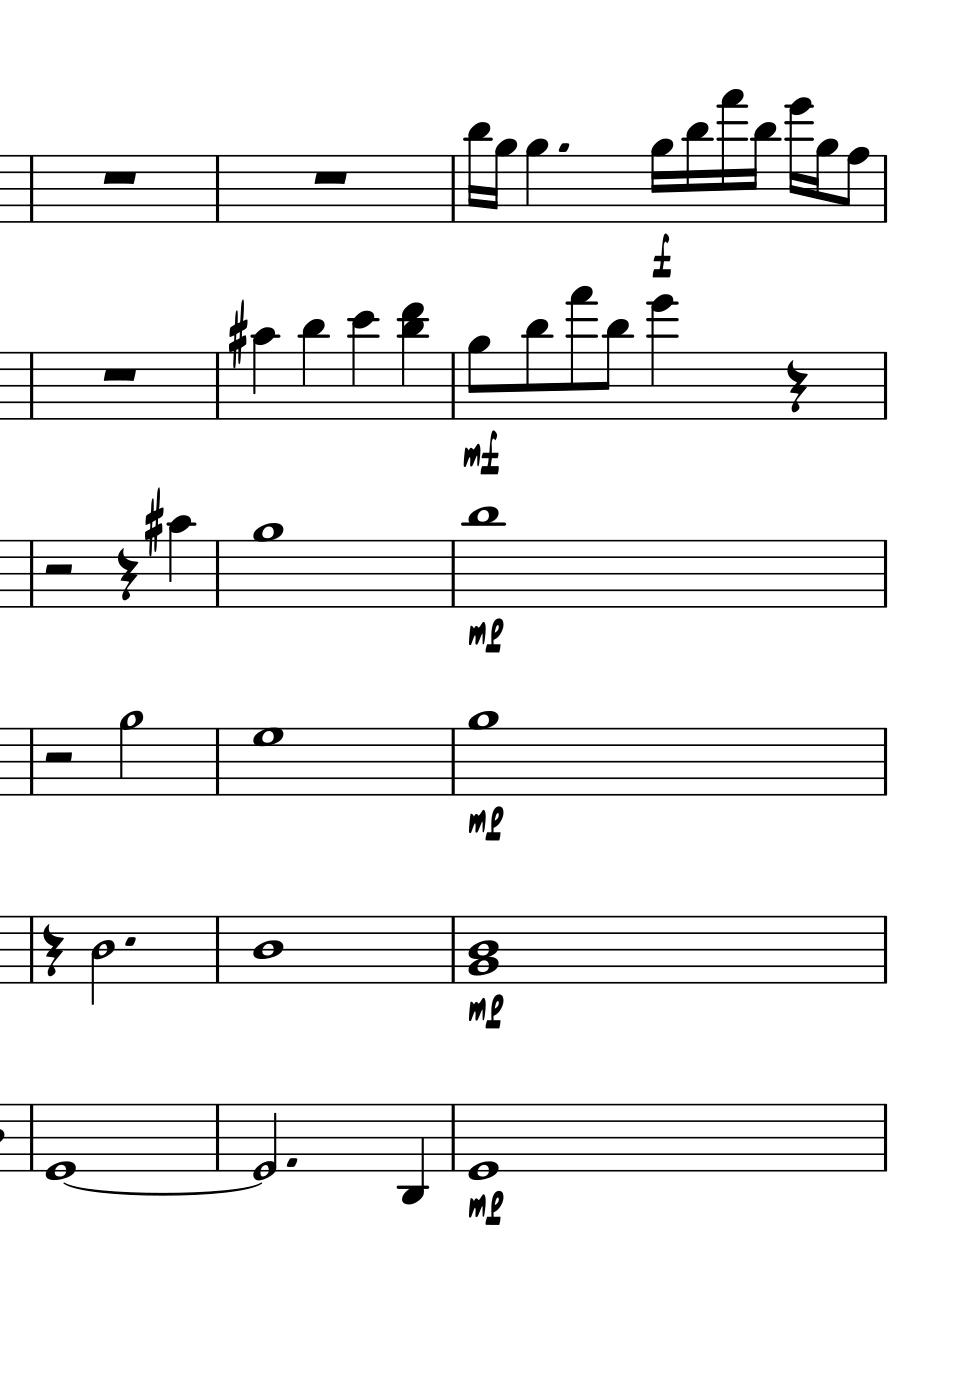16_11: (747, 120, 778, 225), (682, 120, 711, 224), (463, 120, 489, 225)
16_14: (786, 98, 812, 221)
16_15: (716, 90, 745, 220)
16_9: (487, 137, 518, 225), (647, 137, 673, 224), (811, 137, 837, 225)
1_0: (43, 1101, 76, 1183), (466, 1101, 498, 1182)
1_11: (463, 504, 503, 610)
1_4: (250, 913, 283, 987)
1_7: (251, 725, 285, 799)
1_9: (250, 521, 285, 612), (467, 708, 500, 797)
2_0: (250, 1101, 279, 1182)
2_4: (89, 913, 116, 1006)
2_9: (117, 709, 144, 796)
4_-3: (398, 1099, 427, 1207)
4_10: (248, 326, 279, 423), (165, 512, 193, 612)
4_11: (300, 316, 328, 422)
4_12: (348, 310, 379, 423)
4_14: (646, 292, 675, 423)
4_9: (523, 136, 549, 224)
8_11: (599, 317, 630, 423), (522, 317, 552, 422)
8_15: (567, 286, 597, 422)
8_8: (839, 145, 870, 225)
8_9: (465, 334, 492, 421)
Rests1: (308, 166, 352, 188), (98, 168, 141, 188), (98, 365, 141, 385)
Rests2: (41, 748, 78, 768), (41, 560, 77, 580)
Rests4: (784, 358, 809, 416), (116, 547, 139, 603), (41, 924, 64, 979)
Sharp: (142, 485, 165, 557), (226, 298, 248, 369)
Single_barline: (208, 729, 227, 795), (443, 541, 462, 607), (443, 353, 462, 418), (22, 729, 40, 795), (208, 541, 226, 606), (22, 915, 39, 983), (876, 540, 893, 607), (876, 729, 893, 795), (876, 916, 893, 983), (876, 1104, 893, 1171), (444, 729, 461, 794), (209, 917, 226, 982), (22, 1105, 39, 1170), (877, 155, 893, 222), (877, 352, 893, 419), (23, 540, 39, 607), (209, 156, 225, 222), (445, 156, 461, 222), (209, 353, 225, 419), (23, 353, 39, 418), (23, 155, 38, 222), (445, 1105, 460, 1171), (445, 917, 460, 982), (209, 1106, 224, 1170)
Slur: (60, 1180, 263, 1198)
dot: (556, 139, 571, 155), (123, 931, 137, 948), (284, 1154, 299, 1169)
f: (649, 234, 672, 280)
mf: (462, 429, 502, 478)
mp: (467, 805, 506, 842), (466, 1191, 506, 1226), (467, 993, 505, 1029), (468, 617, 505, 653)
